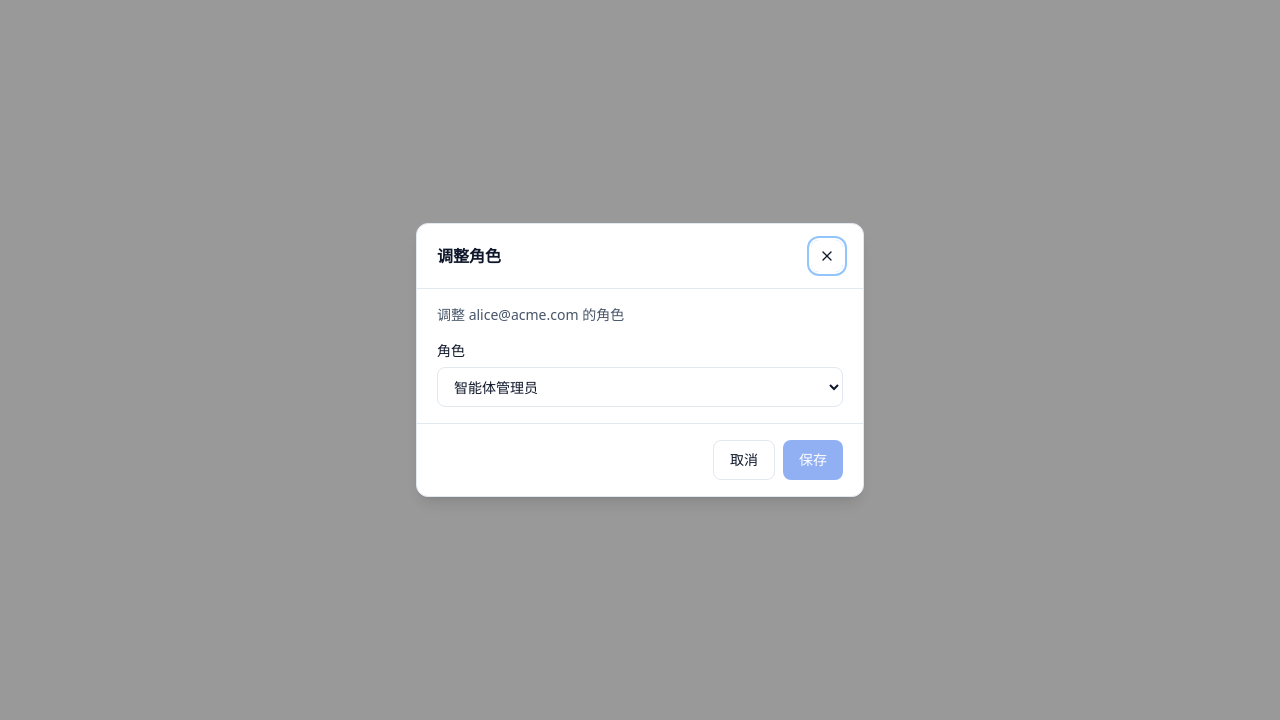
Test: RoleChangeDialog › reports a vanished member as unavailable instead of naming a cause
Select "员工" in the dropdown labelled "角色". click: coordinates (640, 387)
box: [437,367,843,407]
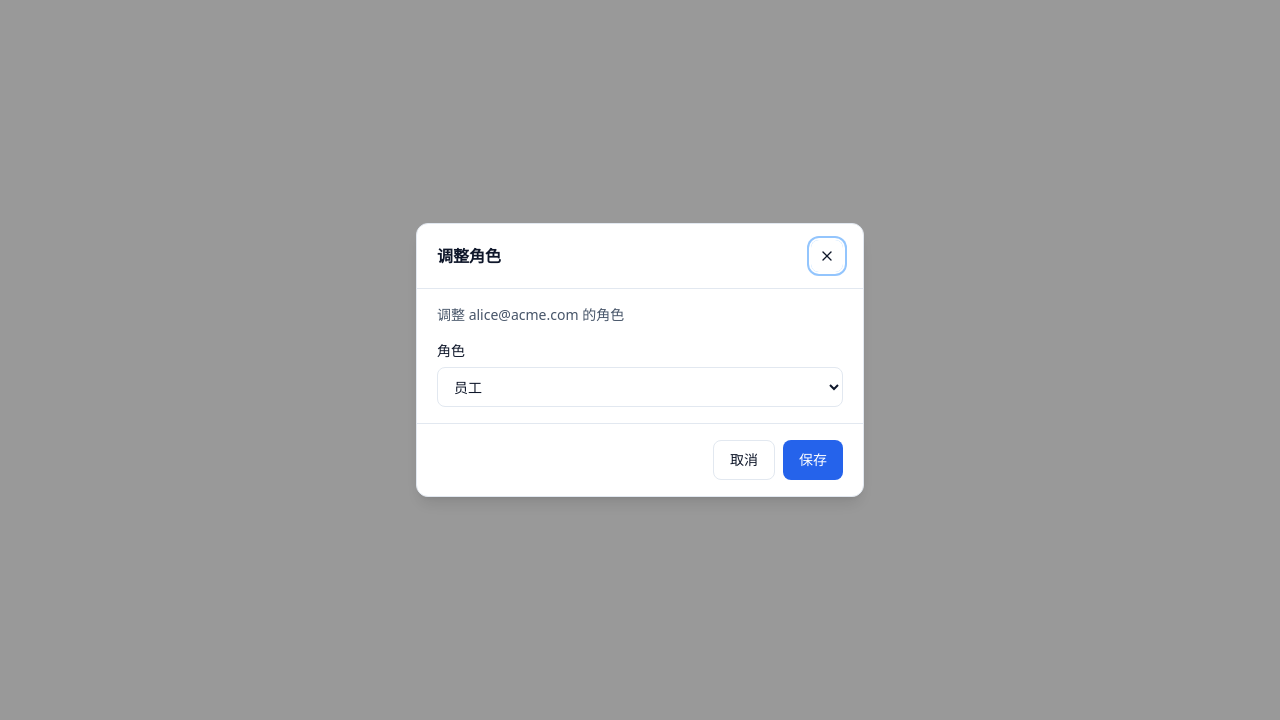
Click the button "保存". click: coordinates (813, 460)
box: [783,440,843,480]
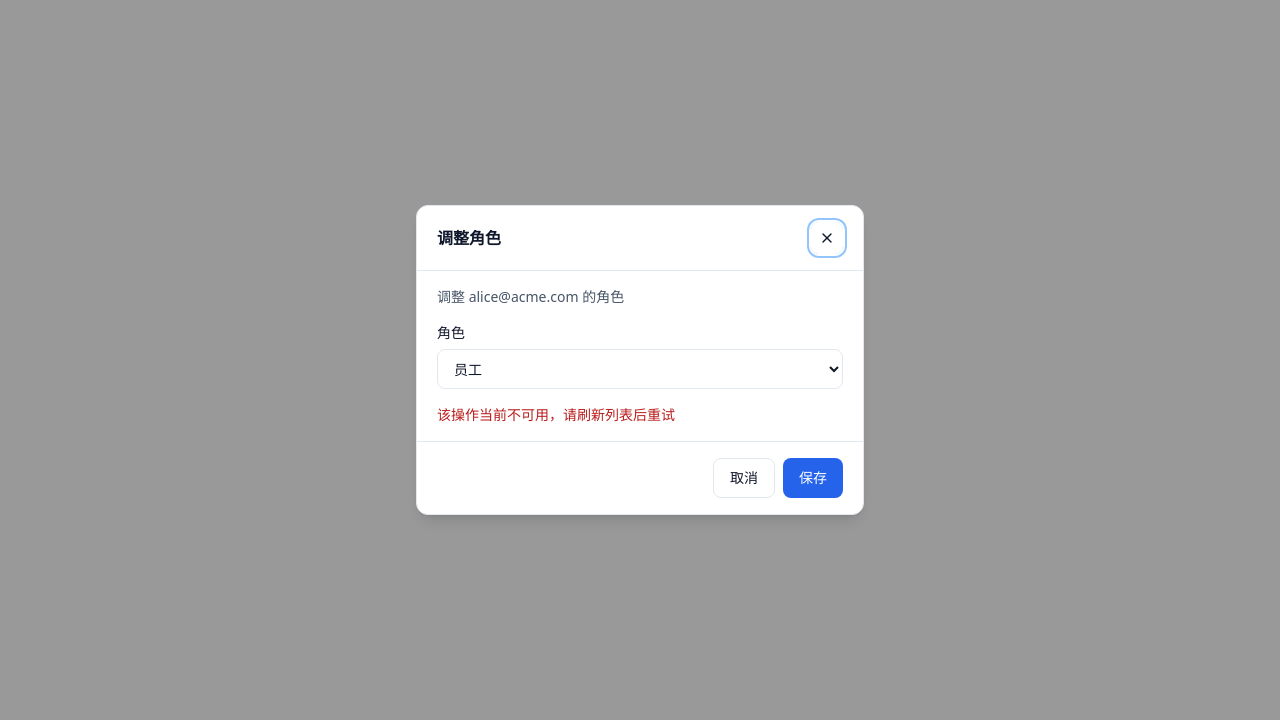
Check: the message reads "该操作当前不可用，请刷新列表后重试", box [437,405,675,424]
